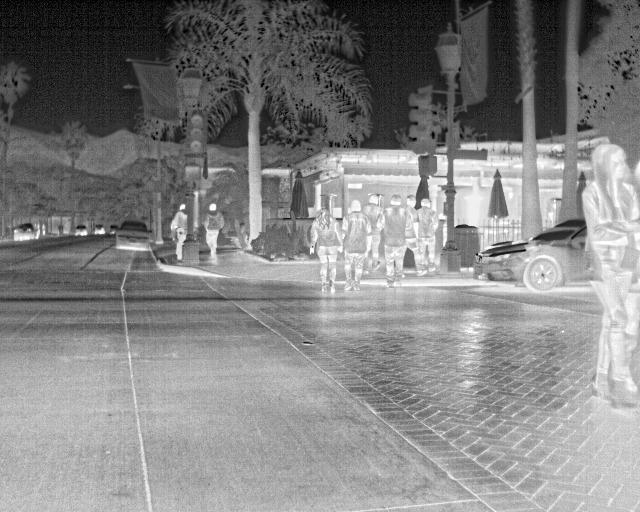bicycle: (470, 217, 592, 296), (112, 220, 157, 255), (12, 221, 39, 244), (74, 222, 91, 238), (92, 224, 109, 238)
empty: (581, 142, 636, 411), (338, 200, 373, 294), (378, 194, 411, 284), (307, 210, 341, 295), (416, 198, 442, 273), (361, 191, 383, 277), (401, 192, 422, 274), (204, 201, 225, 264), (169, 203, 191, 263)
